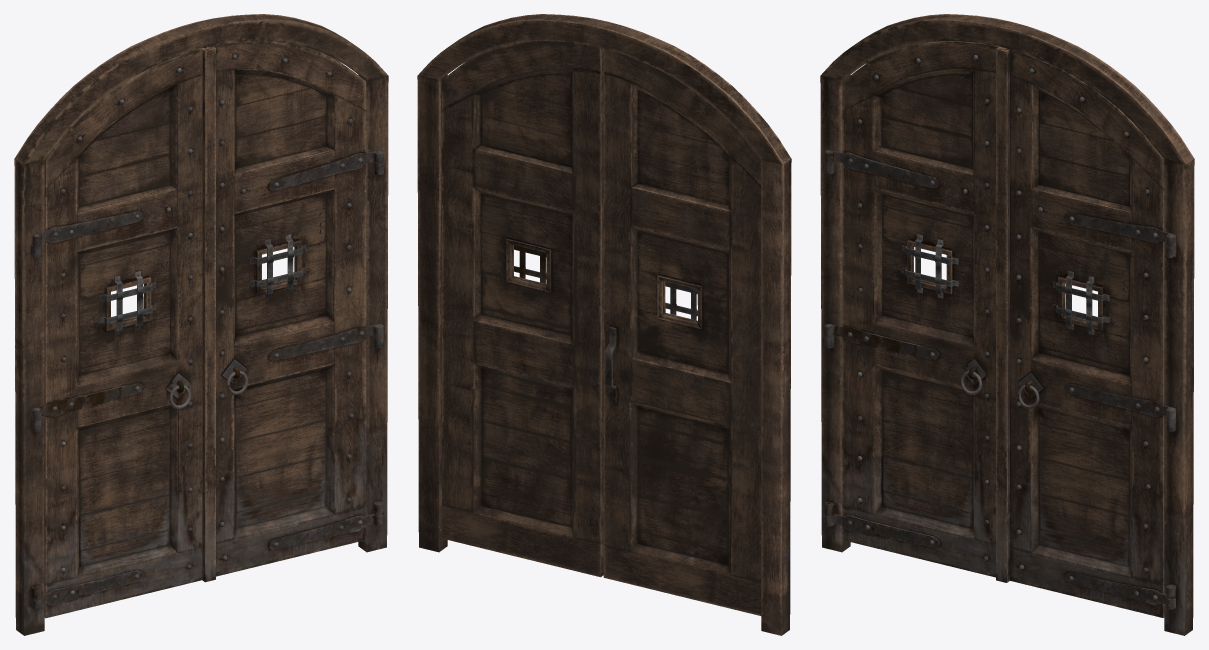
File: polyhaven_door.glb
3 views of the same model, side by side, from view 1: azimuth 30°, elevation 25°; view 2: azimuth 150°, elevation 25°; view 3: azimuth 330°, elevation 25° (orthographic).
Parts seen in each view (by area): view 1: large_castle_door_right, large_castle_door_left, large_castle_door_frame; view 2: large_castle_door_right, large_castle_door_left, large_castle_door_frame; view 3: large_castle_door_right, large_castle_door_left, large_castle_door_frame.
Part boxes in pixels (left/top/right/bottom): large_castle_door_right: left=202, top=41, right=383, bottom=582; large_castle_door_left: left=32, top=48, right=204, bottom=618; large_castle_door_frame: left=14, top=14, right=388, bottom=635; large_castle_door_right: left=442, top=41, right=603, bottom=577; large_castle_door_left: left=603, top=48, right=761, bottom=615; large_castle_door_frame: left=417, top=14, right=791, bottom=635; large_castle_door_right: left=996, top=47, right=1175, bottom=617; large_castle_door_left: left=824, top=41, right=1004, bottom=577; large_castle_door_frame: left=820, top=14, right=1194, bottom=635.
Bounding box in the file's own units: 2.01 × 2.96 × 0.1562.
Materials: 1 (1 with a texture image).
